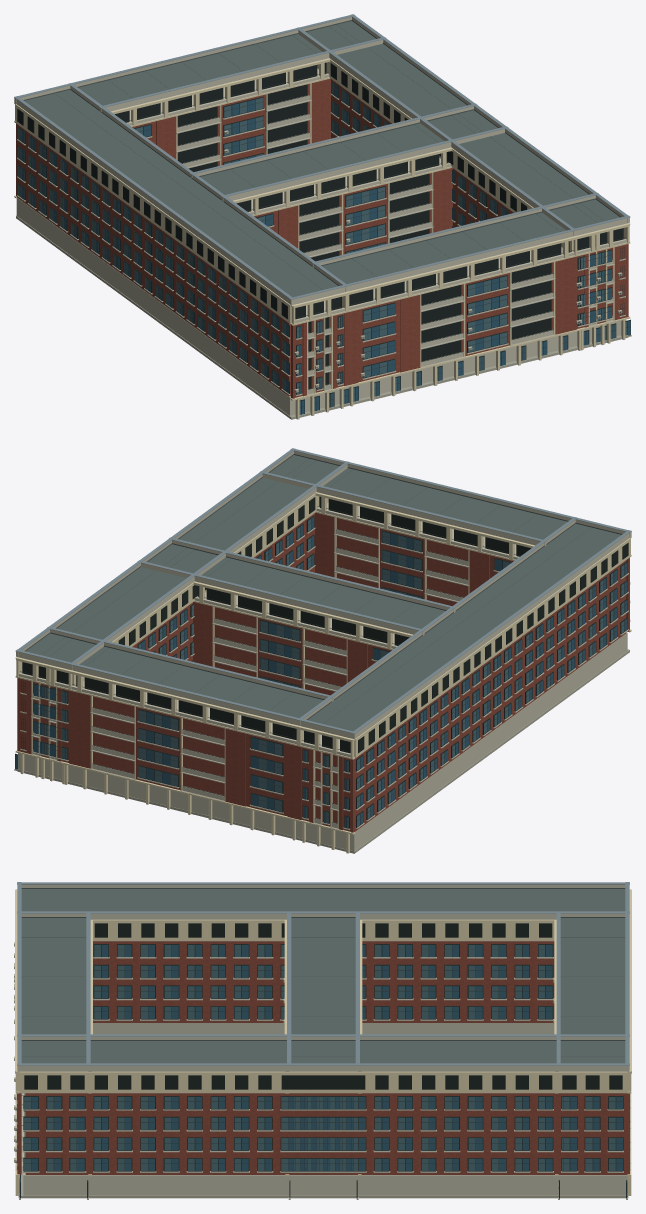
3 views of the same model, one above another, from view 1: azimuth 30°, elevation 25°; view 2: azimuth 150°, elevation 25°; view 3: azimuth 270°, elevation 25° (orthographic). The views are drawn at different scales.
Parts seen in each view (by area): view 1: WestWing_SetBackFlatRoofFinish, WestWing_SetBackBrickCore, EastWing_SetBackFlatRoofFinish, WestWing_SideRoom_GlassPane, NorthWing_SetBackFlatRoofFinish, SouthWing_SetBackFlatRoofFinish, MiddleWing_SetBackFlatRoofFinish, WestWing_PaleStoneGroundBody, SouthWing_BroadSolidBrickPiers, SouthWing_DeepLoggiaRearShadow, WestWing_UpperSideIvoryWall, WestWing_SideRoom_ThinDarkMullion (+60 smaller); view 2: WestWing_SetBackFlatRoofFinish, WestWing_SetBackBrickCore, EastWing_SetBackFlatRoofFinish, WestWing_SideRoom_GlassPane, NorthWing_SetBackFlatRoofFinish, SouthWing_SetBackFlatRoofFinish, WestWing_PaleStoneGroundBody, MiddleWing_SetBackFlatRoofFinish, NorthWing_BroadSolidBrickPiers, NorthWing_SetBackBrickCore, NorthWing_PaleStoneGroundBody, WestWing_UpperSideIvoryWall (+59 smaller); view 3: EastWing_SetBackBrickCore, WestWing_SetBackBrickCore, EastWing_SideRoom_GlassPane, WestWing_SetBackFlatRoofFinish, WestWing_SideRoom_GlassPane, EastWing_SetBackFlatRoofFinish, EastWing_PaleStoneGroundBody, NorthWing_SetBackFlatRoofFinish, SouthWing_SetBackFlatRoofFinish, MiddleWing_SetBackFlatRoofFinish, EastWing_UpperSideIvoryWall, WestWing_WhiteRoofParapet (+47 smaller).
Part boxes in pixels (bbox=[...]): WestWing_SetBackFlatRoofFinish: bbox=[24, 89, 338, 297]; WestWing_SetBackBrickCore: bbox=[17, 124, 330, 396]; EastWing_SetBackFlatRoofFinish: bbox=[307, 22, 618, 228]; WestWing_SideRoom_GlassPane: bbox=[18, 128, 288, 392]; NorthWing_SetBackFlatRoofFinish: bbox=[78, 21, 375, 105]; SouthWing_SetBackFlatRoofFinish: bbox=[322, 199, 619, 284]; MiddleWing_SetBackFlatRoofFinish: bbox=[200, 110, 498, 194]; WestWing_PaleStoneGroundBody: bbox=[16, 197, 344, 415]; SouthWing_BroadSolidBrickPiers: bbox=[347, 244, 628, 385]; SouthWing_DeepLoggiaRearShadow: bbox=[421, 262, 551, 361]; WestWing_UpperSideIvoryWall: bbox=[15, 104, 291, 323]; WestWing_SideRoom_ThinDarkMullion: bbox=[18, 128, 289, 393]; WestWing_SetBackFlatRoofFinish: bbox=[307, 523, 621, 731]; WestWing_SetBackBrickCore: bbox=[315, 560, 626, 831]; EastWing_SetBackFlatRoofFinish: bbox=[28, 455, 337, 662]; WestWing_SideRoom_GlassPane: bbox=[357, 562, 627, 826]; NorthWing_SetBackFlatRoofFinish: bbox=[26, 633, 323, 718]; SouthWing_SetBackFlatRoofFinish: bbox=[270, 455, 567, 539]; WestWing_PaleStoneGroundBody: bbox=[299, 632, 627, 851]; MiddleWing_SetBackFlatRoofFinish: bbox=[148, 544, 445, 628]; NorthWing_BroadSolidBrickPiers: bbox=[17, 678, 298, 819]; NorthWing_SetBackBrickCore: bbox=[93, 696, 224, 795]; NorthWing_PaleStoneGroundBody: bbox=[18, 753, 300, 837]; WestWing_UpperSideIvoryWall: bbox=[354, 538, 630, 757]; EastWing_SetBackBrickCore: bbox=[25, 1093, 626, 1174]; WestWing_SetBackBrickCore: bbox=[93, 941, 554, 1022]; EastWing_SideRoom_GlassPane: bbox=[24, 1097, 622, 1170]; WestWing_SetBackFlatRoofFinish: bbox=[21, 889, 625, 911]; WestWing_SideRoom_GlassPane: bbox=[94, 945, 552, 1018]; EastWing_SetBackFlatRoofFinish: bbox=[21, 1041, 625, 1063]; EastWing_PaleStoneGroundBody: bbox=[23, 1152, 627, 1195]; NorthWing_SetBackFlatRoofFinish: bbox=[560, 918, 625, 1063]; SouthWing_SetBackFlatRoofFinish: bbox=[21, 918, 86, 1063]; MiddleWing_SetBackFlatRoofFinish: bbox=[291, 918, 355, 1063]; EastWing_UpperSideIvoryWall: bbox=[19, 1071, 627, 1092]; WestWing_WhiteRoofParapet: bbox=[21, 884, 625, 919].
Size of the model in its own units: 69.73 by 23.56 by 98.73.
Materials: 12 (1 with a texture image).
